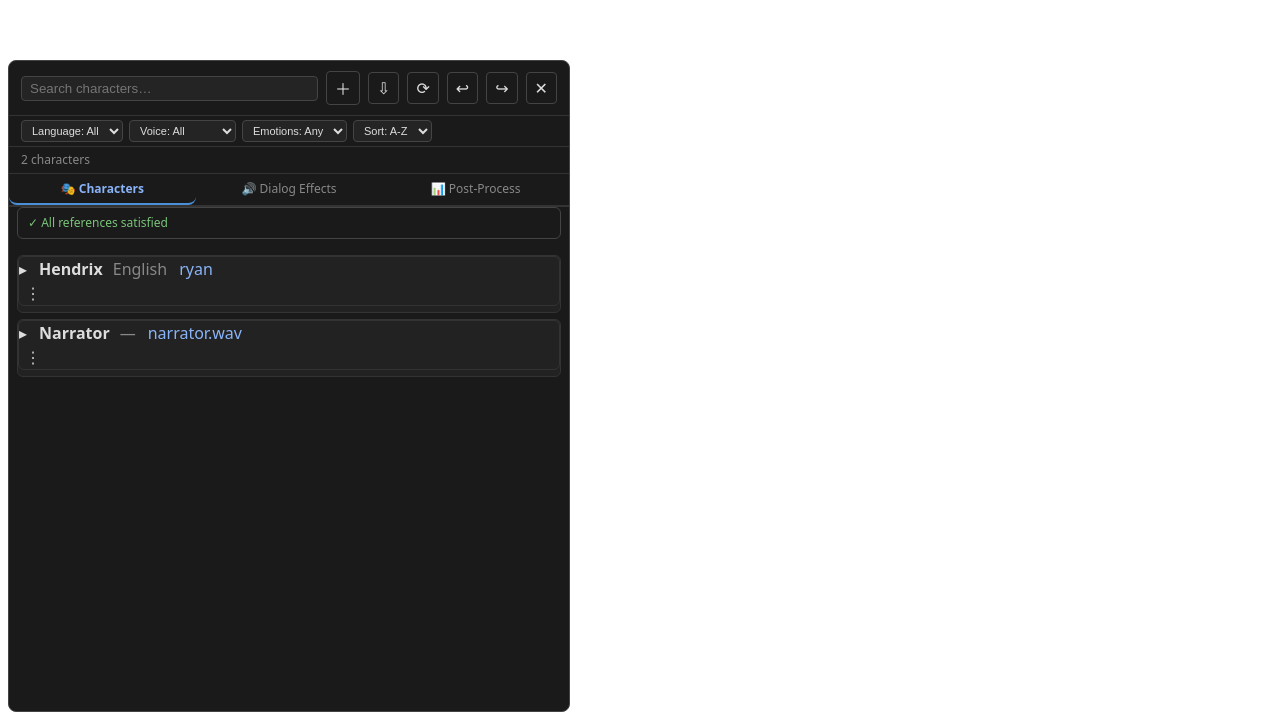
it: CharacterVoiceDialog › filters by language
Check: the text "2 characters" is shown, box [21,151,90,168]
Select "English" in the dropdown with test id "filter-language" at (72, 131), box [21,120,123,142]
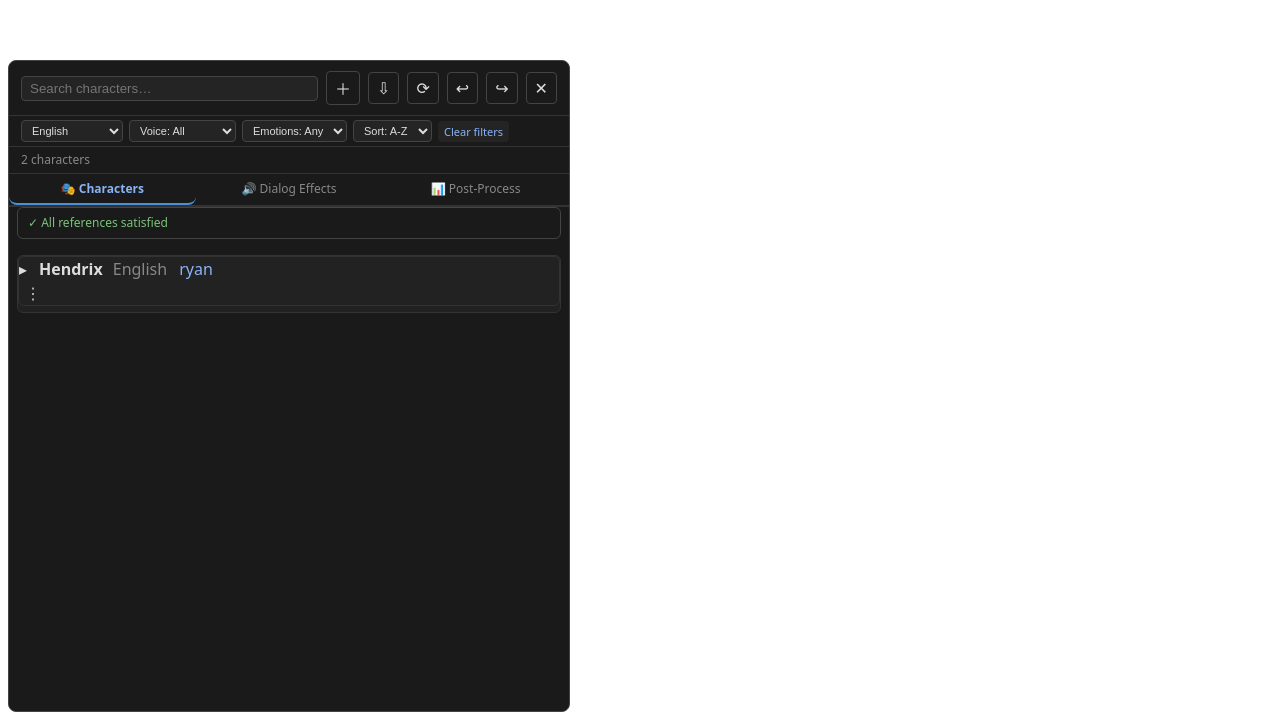
Check: the button with test id "character-bar-Hendrix" is shown, box [17,255,561,313]
Check: the button with test id "character-bar-Narrator" is gone
